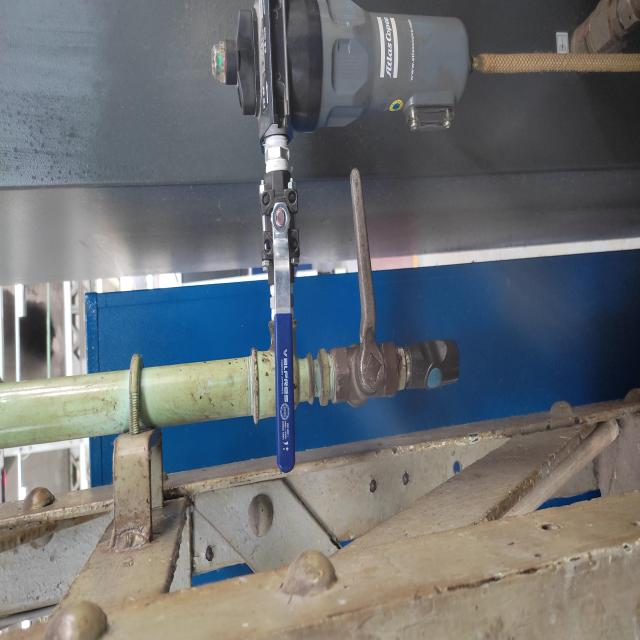closed_valve: (327, 168, 401, 412)
opened_valve: (255, 164, 302, 480)
